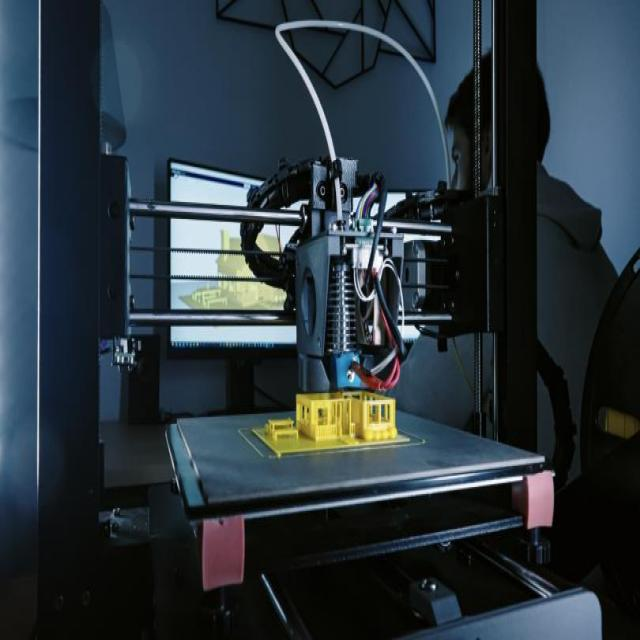Without deffect: (242, 388, 439, 470)
